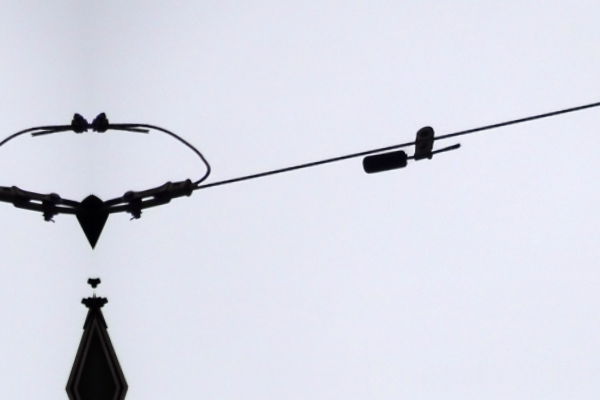damper_defect: (361, 124, 463, 176)
